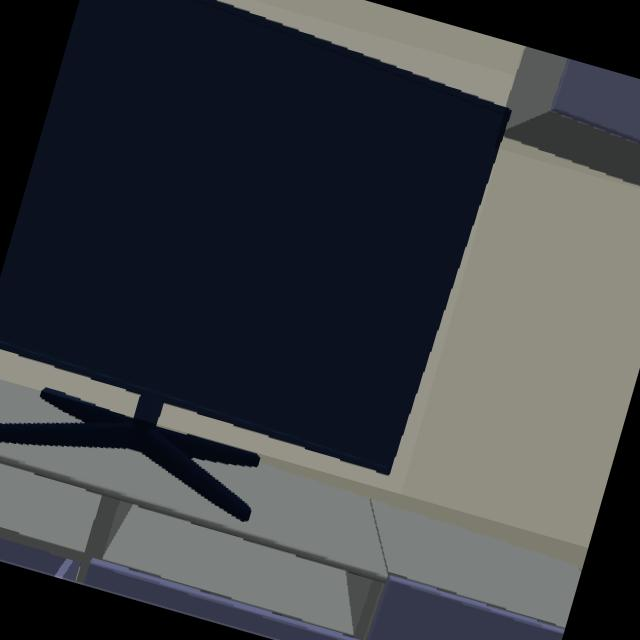cabinet: (0, 442, 581, 640), (504, 46, 640, 186)
